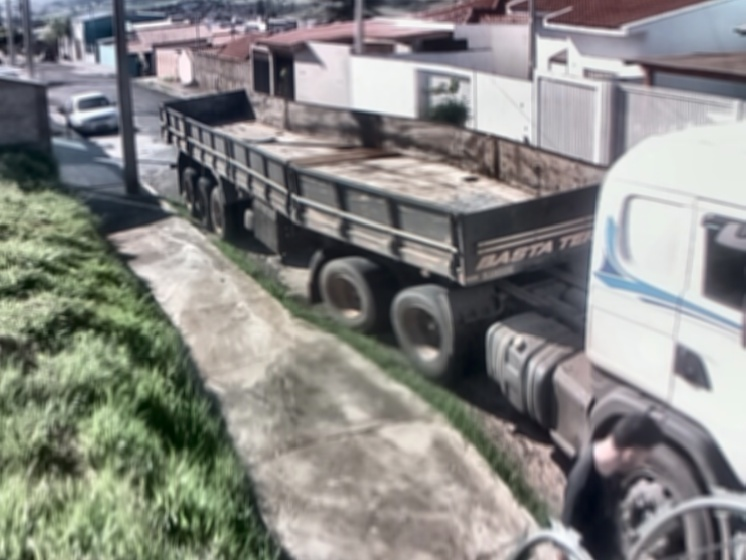person: (553, 412, 668, 560)
